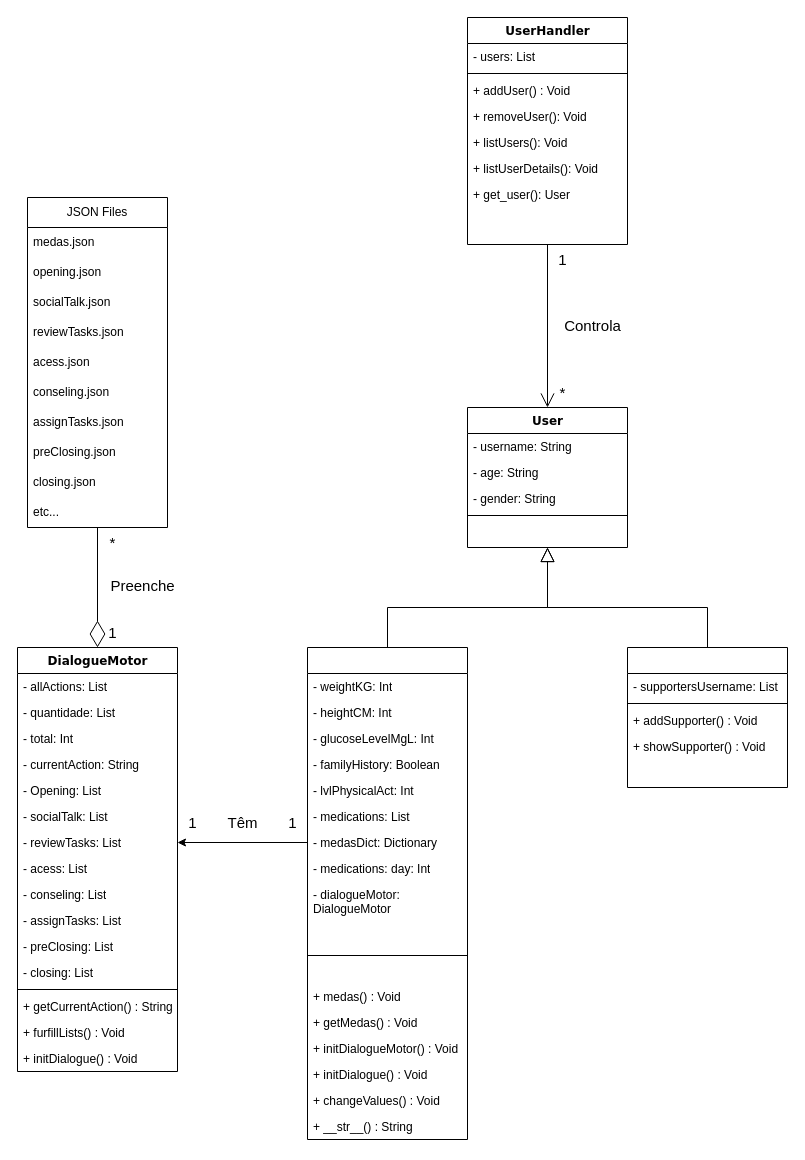
Image size: 805x1160. Some labels were removed from this diagram. The box of each missing label's shape, as (x1, y1, x2, y2) in pixels:
PrimaryUser: (306, 646, 468, 1140)
SupportUser: (626, 646, 788, 788)
